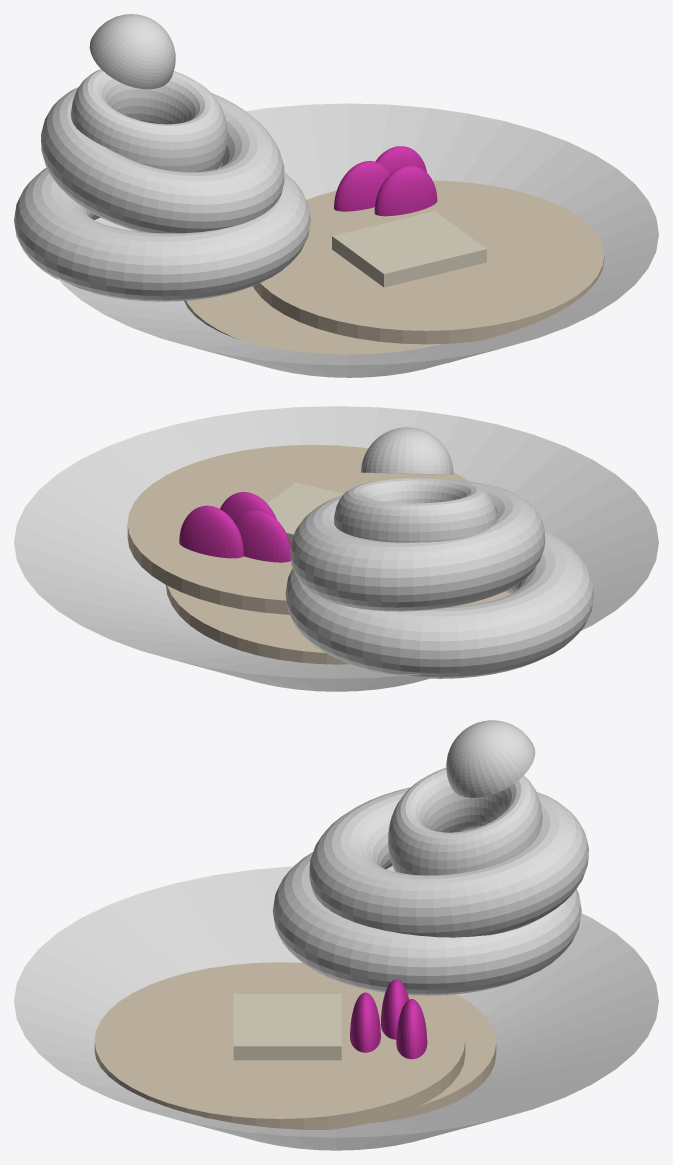
The model's file is Audrey - Pancakes.glb.
The picture shows the model from 3 angles, top to bottom: view 1: azimuth 30°, elevation 25°; view 2: azimuth 150°, elevation 25°; view 3: azimuth 270°, elevation 25°; orthographic projection. The views are drawn at different scales.
Parts seen in each view (by area): view 1: Mesh_Mesh_head_geo.001_lambert2SG.001; view 2: Mesh_Mesh_head_geo.001_lambert2SG.001; view 3: Mesh_Mesh_head_geo.001_lambert2SG.001.
Part boxes in pixels (x1,y1,x2,y2): Mesh_Mesh_head_geo.001_lambert2SG.001: (14,14,658,377); Mesh_Mesh_head_geo.001_lambert2SG.001: (14,406,658,691); Mesh_Mesh_head_geo.001_lambert2SG.001: (14,720,658,1150).
Bounding box in the file's own units: 0.1323 × 0.0648 × 0.1315.
